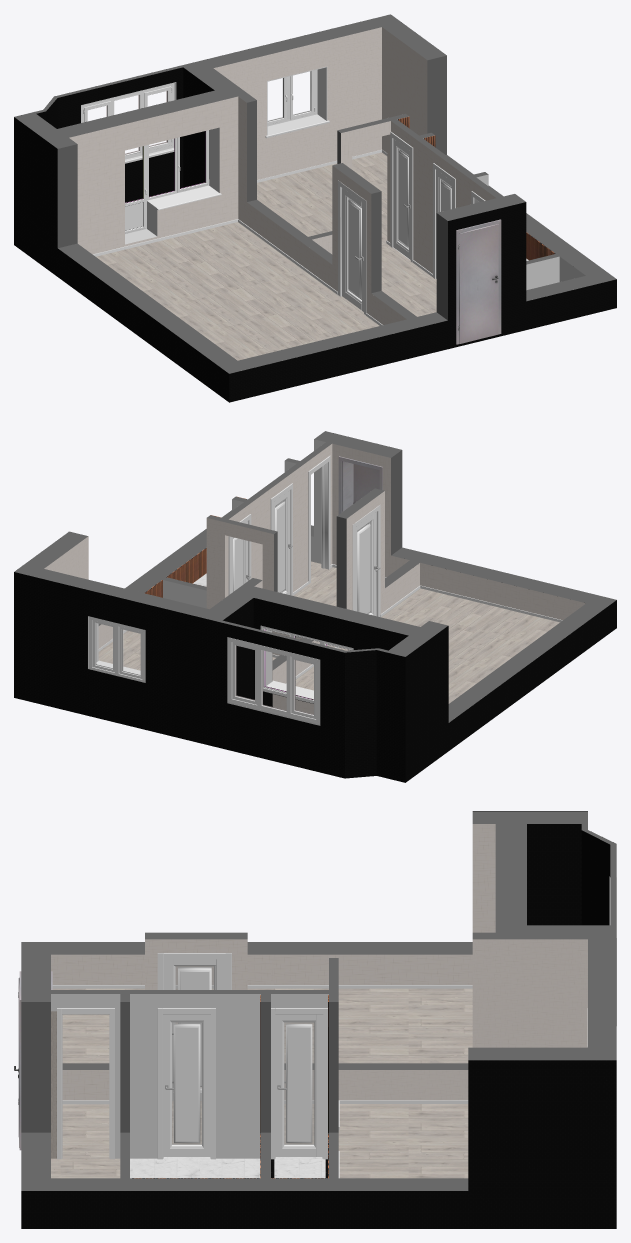
File: Untitleddpls.glb
The picture shows the model from 3 angles, top to bottom: view 1: azimuth 30°, elevation 25°; view 2: azimuth 150°, elevation 25°; view 3: azimuth 270°, elevation 25°; orthographic projection. The views are drawn at different scales.
Parts seen in each view (by area): view 1: Cube, Plane.001_Door_0, Window, window_2, _111111_white_plastic_matte_0, фил 126, Plane.002, _222222_white_plastic_matte_0, фил 126.002, Cube.001, Line711.002, Shape3105 (+2 smaller); view 2: Cube, _111111_white_plastic_matte_0, _222222_white_plastic_matte_0, фил 126, Plane.002, Window, фил 126.001, Line711, Plane.001_Door_0, Cube.001, Shape3108, Line711.004 (+4 smaller); view 3: Cube, фил 125.001, фил 125.002, Line640.001, Line640.003, Shape3108.002, Line640.002, Cube.001, Shape3105.001, Shape3105.002, Shape3108.001, фил 125 (+2 smaller).
Boxes of the visible parts, <box> form: Cube: <box>14,14,616,402</box>; Plane.001_Door_0: <box>458,224,498,343</box>; Window: <box>125,130,221,233</box>; window_2: <box>265,66,329,138</box>; _111111_white_plastic_matte_0: <box>81,83,174,159</box>; фил 126: <box>348,199,361,298</box>; Plane.002: <box>456,219,501,344</box>; _222222_white_plastic_matte_0: <box>267,69,317,126</box>; фил 126.002: <box>398,150,408,247</box>; Cube.001: <box>93,219,382,325</box>; Line711.002: <box>390,132,413,262</box>; Shape3105: <box>342,188,350,298</box>; Cube: <box>14,431,616,782</box>; _111111_white_plastic_matte_0: <box>227,637,319,723</box>; _222222_white_plastic_matte_0: <box>88,616,145,682</box>; фил 126: <box>357,523,370,613</box>; Plane.002: <box>338,456,382,514</box>; Window: <box>261,625,353,703</box>; фил 126.001: <box>275,501,285,592</box>; Line711: <box>352,504,380,617</box>; Plane.001_Door_0: <box>353,464,379,503</box>; Cube.001: <box>286,585,562,683</box>; Shape3108: <box>368,512,376,616</box>; Line711.004: <box>308,455,330,583</box>; Cube: <box>21,811,616,1228</box>; фил 125.001: <box>173,1024,200,1143</box>; фил 125.002: <box>286,1024,312,1143</box>; Line640.001: <box>157,1008,215,1159</box>; Line640.003: <box>57,1008,114,1159</box>; Shape3108.002: <box>275,1014,284,1156</box>; Line640.002: <box>271,1008,327,1159</box>; Cube.001: <box>52,985,472,988</box>; Shape3105.001: <box>202,1014,210,1156</box>; Shape3105.002: <box>314,1014,322,1156</box>; Shape3108.001: <box>163,1014,171,1156</box>; фил 125: <box>178,968,211,1086</box>.
Bounding box in the file's own units: 38.53 × 12.17 × 39.43.
29 materials, 8 textured.
